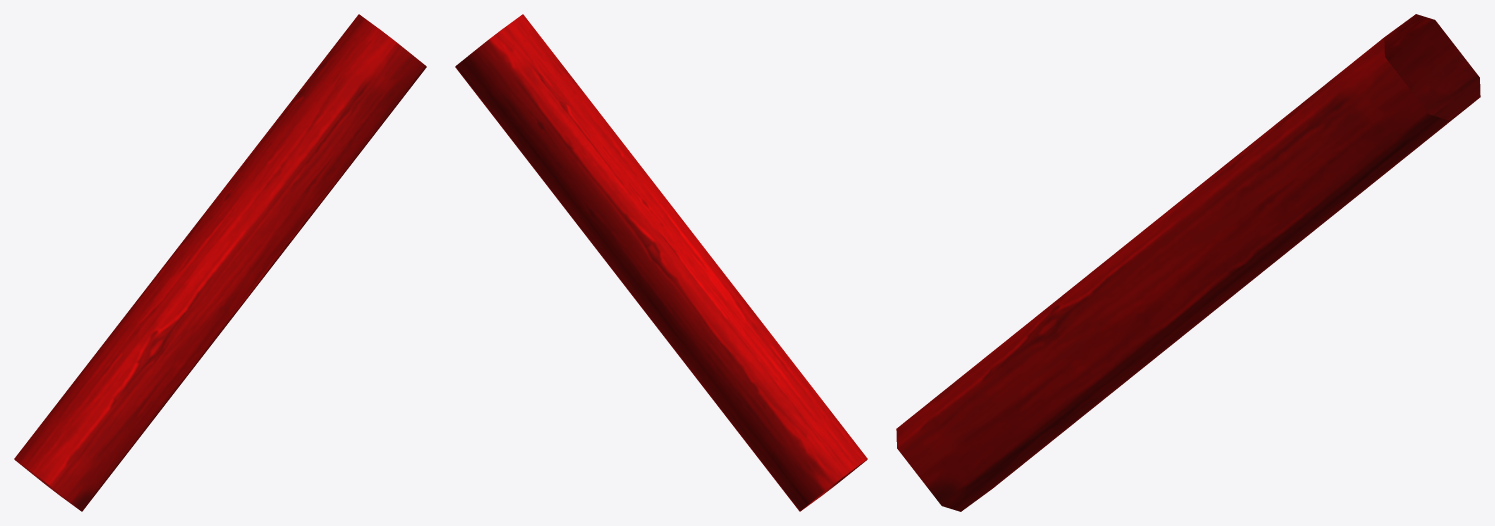
The model's file is RoofSideLeft01.fbx.
3 views of the same model, side by side, from view 1: azimuth 30°, elevation 25°; view 2: azimuth 150°, elevation 25°; view 3: azimuth 330°, elevation 25° (orthographic). The views are drawn at different scales.
Parts seen in each view (by area): view 1: RoofSideLeft01; view 2: RoofSideLeft01; view 3: RoofSideLeft01.
Part boxes in pixels (<box>): RoofSideLeft01: <box>14,14,426,511</box>; RoofSideLeft01: <box>455,14,867,511</box>; RoofSideLeft01: <box>896,14,1480,511</box>.
Size of the model in its own units: 1.13 by 1.13 by 0.1788.
